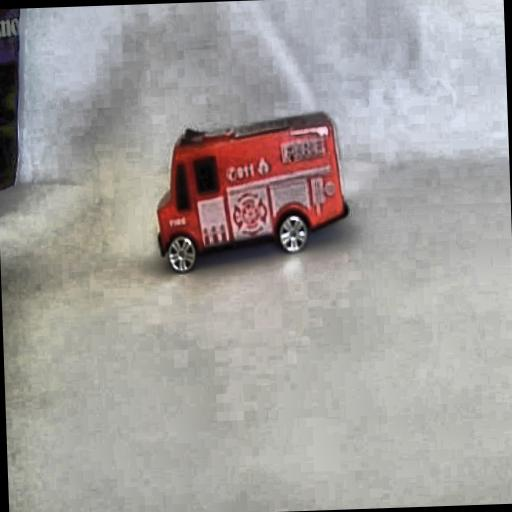fire_truck: (146, 104, 356, 279)
